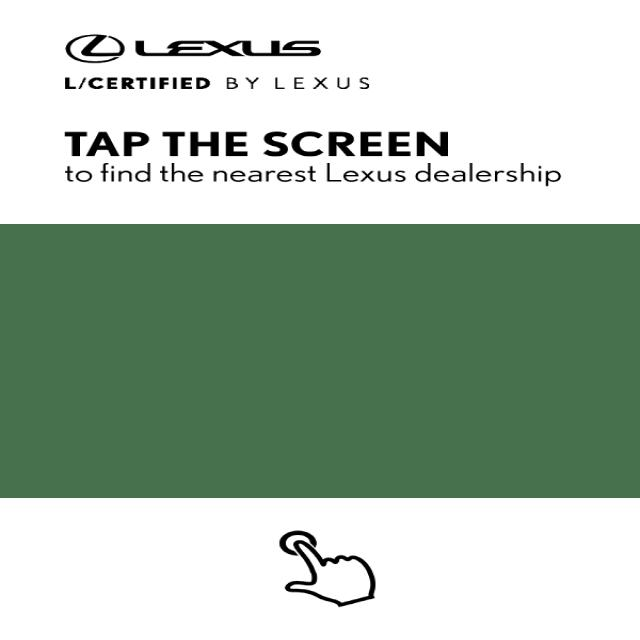Background Image: (2, 1, 637, 636)
Mascot: (278, 529, 376, 607)
Testimonial Quotes: (58, 34, 563, 186)
Text Elements: (61, 129, 562, 185), (62, 33, 371, 91), (63, 160, 561, 185), (63, 129, 450, 157), (64, 32, 322, 62), (261, 130, 449, 157), (62, 74, 371, 90), (133, 38, 321, 57), (160, 130, 249, 156), (62, 75, 210, 90), (63, 130, 148, 156)
